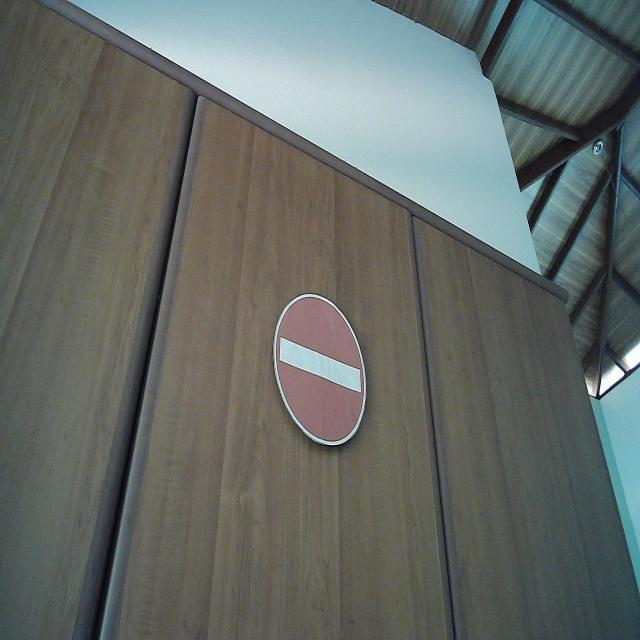no_entry: (271, 291, 368, 448)
